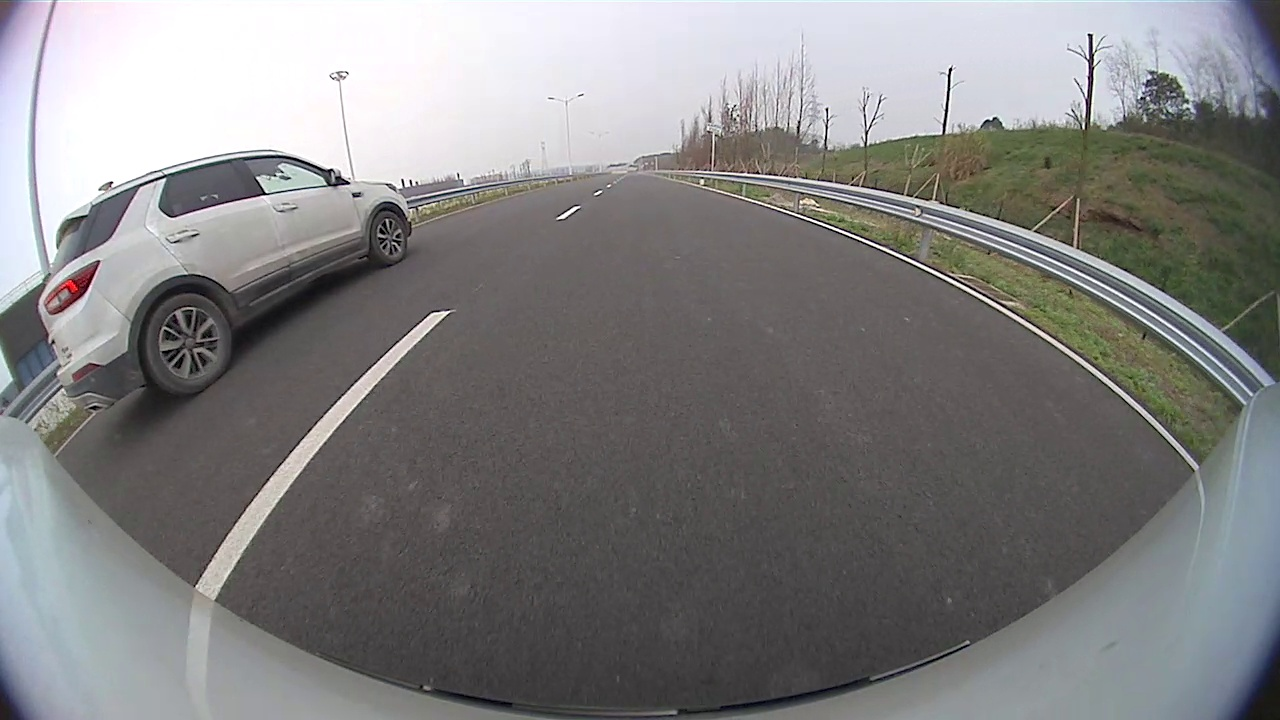car: (37, 149, 413, 415)
front: (366, 208, 409, 270)
rear: (138, 290, 236, 399)
